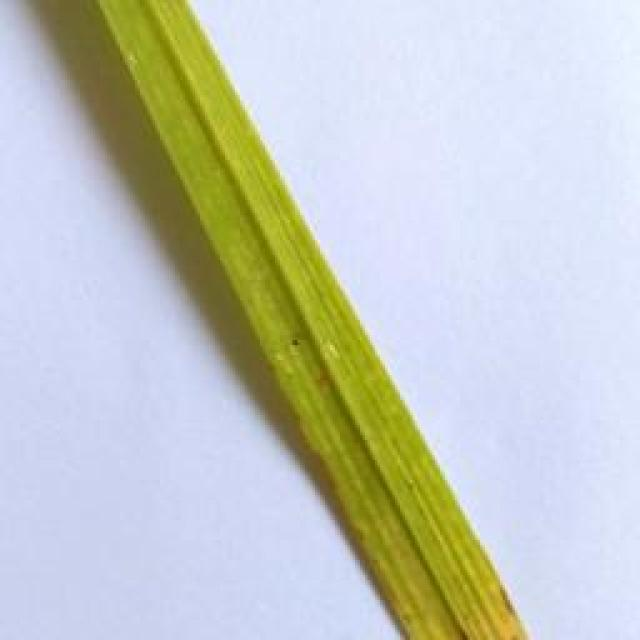Bacterial_Blight: (441, 548, 532, 640)
Brown_Spot: (491, 585, 524, 622), (307, 366, 336, 404), (284, 335, 306, 357)
